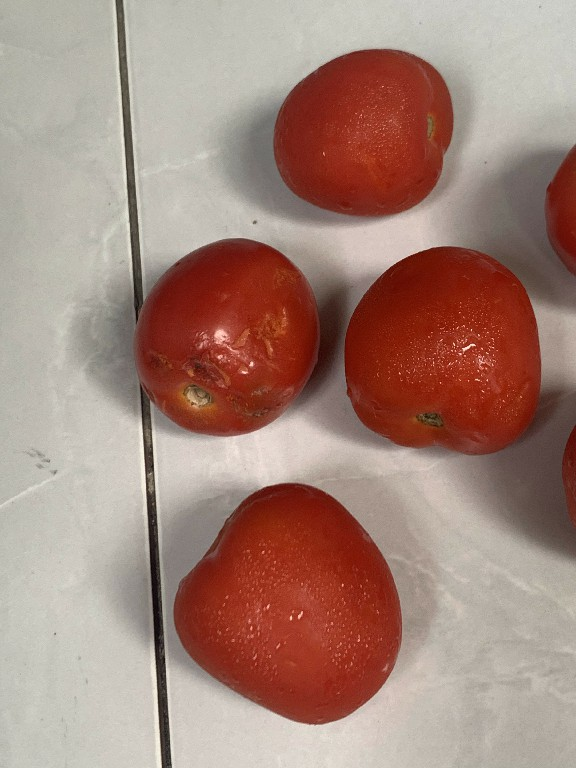NG: (133, 228, 333, 445)
OK: (161, 479, 410, 730), (333, 237, 553, 462), (266, 36, 463, 222)
